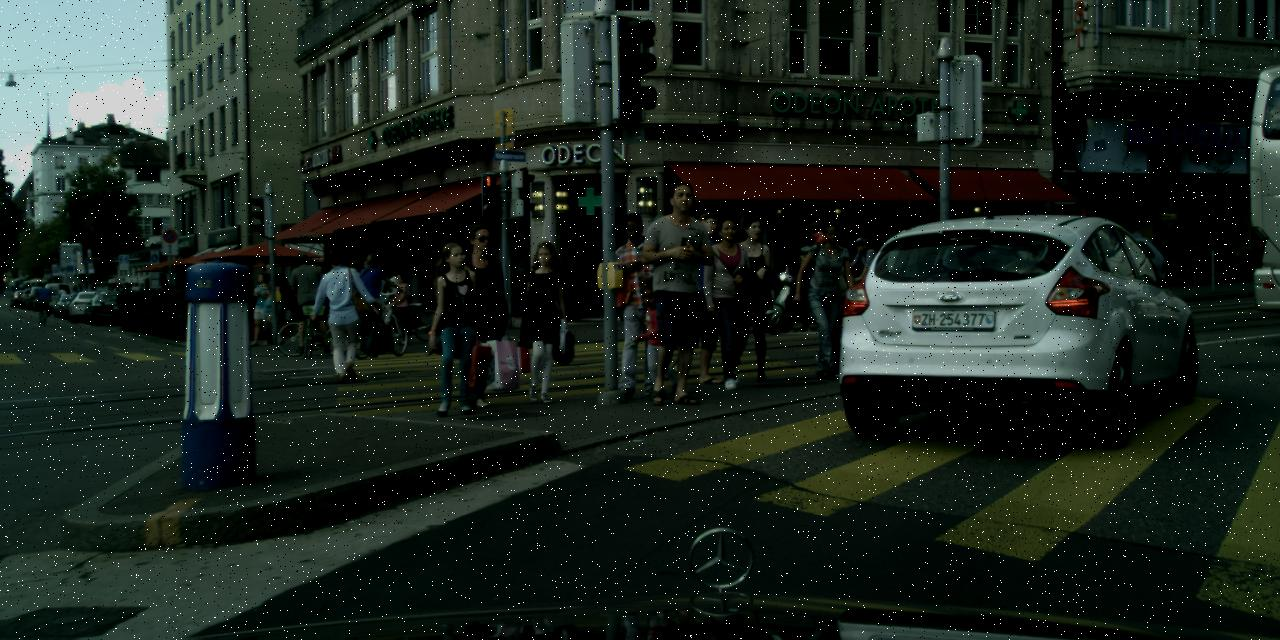ped: (631, 182, 721, 401), (599, 212, 674, 397), (440, 223, 514, 404), (417, 241, 487, 411), (666, 210, 736, 380), (693, 217, 762, 386), (716, 215, 782, 376), (509, 241, 574, 401), (797, 218, 861, 376), (314, 248, 367, 377), (807, 247, 854, 364), (636, 284, 680, 394), (287, 252, 327, 352), (355, 252, 391, 342), (849, 236, 880, 314), (339, 258, 369, 334), (257, 262, 287, 336), (362, 260, 392, 332), (246, 272, 274, 344), (270, 272, 298, 342), (258, 284, 283, 345), (388, 273, 413, 333), (384, 265, 409, 324), (356, 260, 378, 318), (308, 265, 328, 315), (36, 283, 51, 319)
